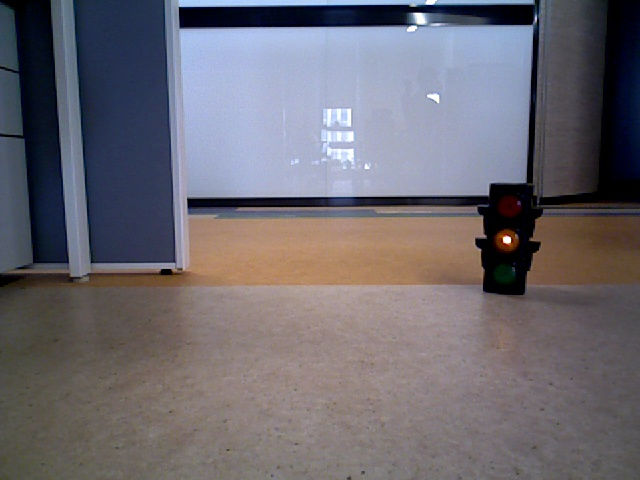yellow: (490, 189, 525, 294)
